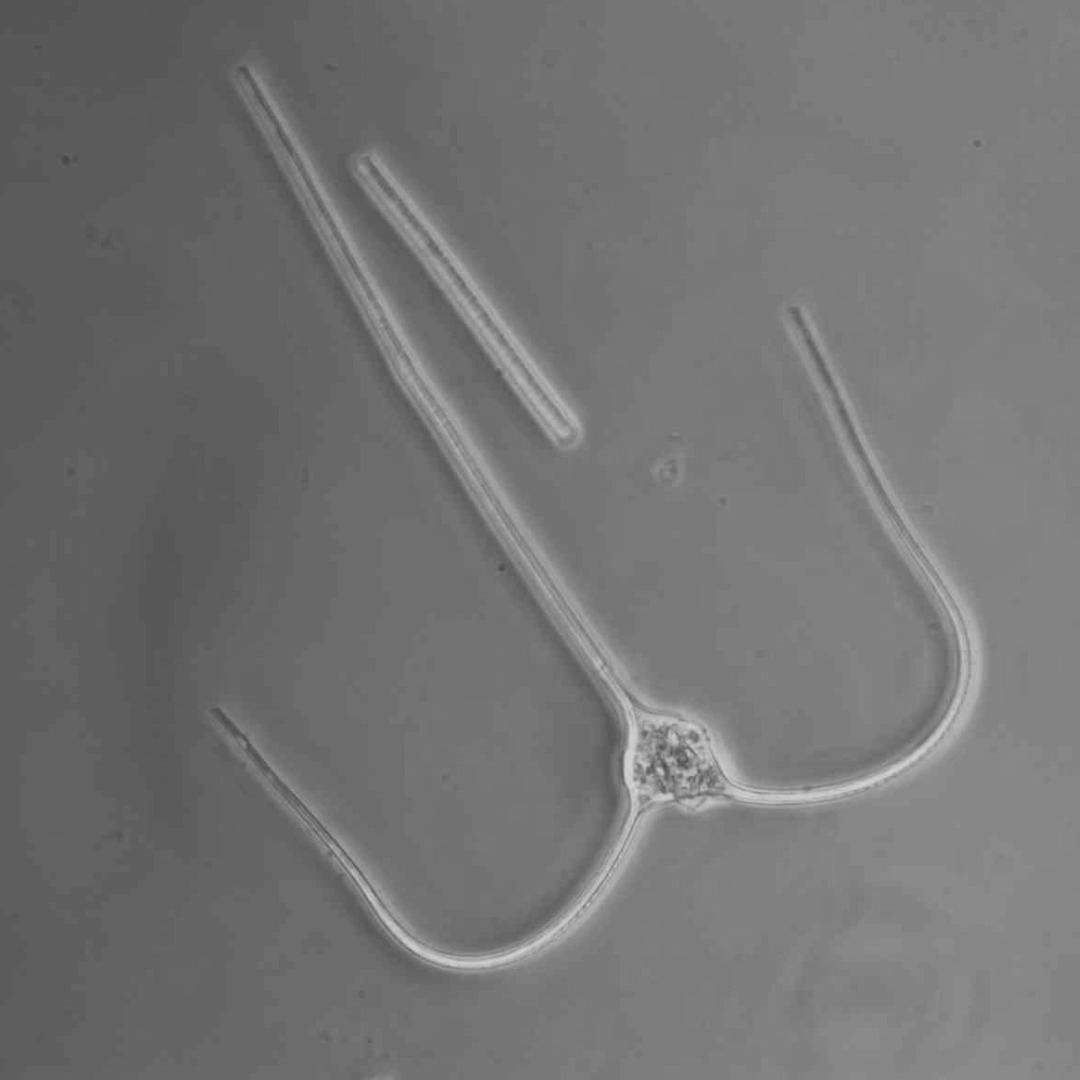ceratium_trichorecos: (211, 59, 978, 972)
